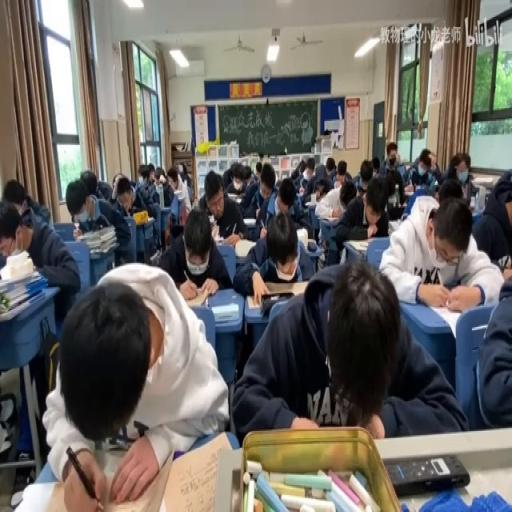calculator: (422, 301, 472, 340), (10, 480, 54, 510), (0, 266, 38, 290), (182, 282, 212, 304), (210, 300, 238, 322), (212, 228, 242, 248), (53, 222, 75, 243), (234, 238, 256, 256), (89, 244, 117, 258), (346, 239, 370, 252), (294, 226, 308, 248), (134, 214, 155, 228), (89, 195, 100, 220), (472, 175, 494, 186), (318, 213, 341, 222), (387, 219, 400, 233), (172, 186, 185, 200), (226, 192, 242, 201), (242, 216, 256, 225), (403, 184, 414, 194), (304, 198, 317, 206), (208, 213, 214, 226), (298, 185, 304, 193)
paper: (43, 263, 226, 511), (233, 256, 462, 441), (378, 192, 504, 310), (2, 192, 80, 330), (234, 206, 314, 297), (156, 205, 230, 296), (473, 280, 512, 430), (74, 173, 136, 266), (333, 171, 388, 256), (406, 146, 438, 192), (378, 154, 403, 209), (298, 158, 323, 202), (149, 165, 174, 208), (436, 176, 464, 202), (2, 179, 24, 208), (80, 168, 99, 196), (340, 183, 357, 212), (132, 186, 149, 212), (277, 186, 294, 212), (334, 159, 348, 189), (386, 199, 405, 219), (222, 162, 236, 189), (177, 162, 192, 186), (137, 164, 153, 186), (358, 161, 372, 186), (96, 179, 113, 199), (112, 172, 124, 194), (371, 155, 381, 176), (325, 155, 335, 176), (448, 161, 461, 176), (242, 165, 251, 186), (254, 159, 262, 179), (386, 145, 396, 161), (300, 163, 306, 175), (433, 188, 438, 200)
person: (384, 452, 470, 494), (260, 292, 294, 314), (306, 239, 316, 252)
